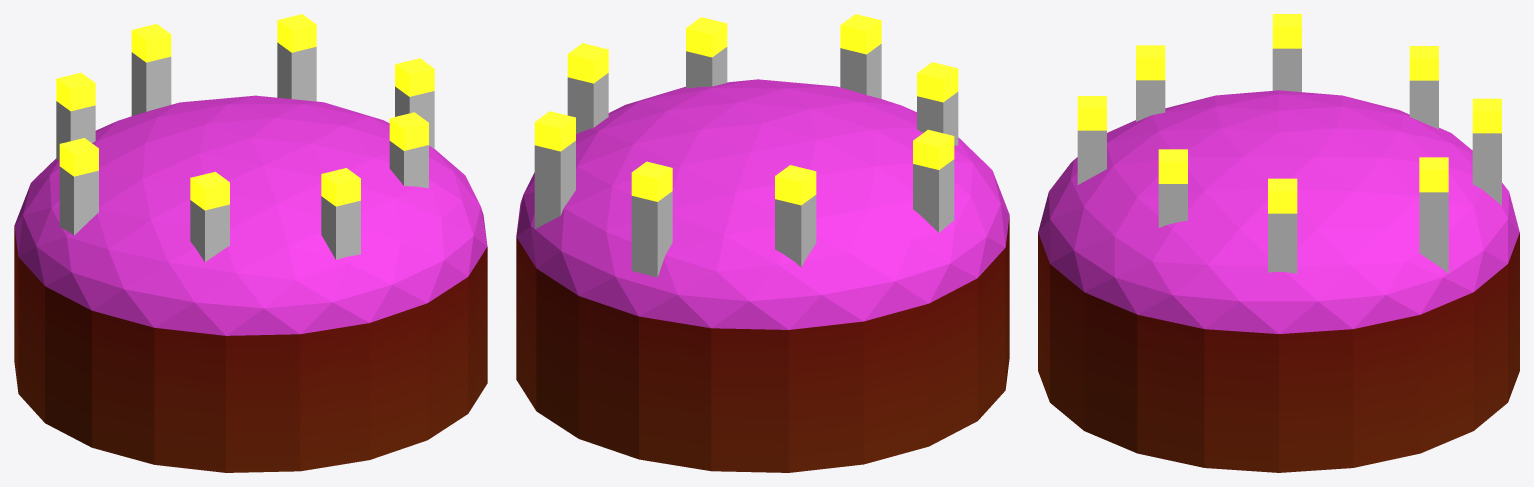
Rendered from Cake.fbx.
3 views of the same model, side by side, from view 1: azimuth 30°, elevation 25°; view 2: azimuth 150°, elevation 25°; view 3: azimuth 270°, elevation 25° (orthographic). The views are drawn at different scales.
Visible parts, largest first — view 1: Icosphere, Cube.007, Cube.004, Cube.003, Cube.006, Cube.008, Cube.001, Cube.005, Cube.002; view 2: Icosphere, Cube.004, Cube.003, Cube.007, Cube.005, Cube.002, Cube.006, Cube.008, Cube.001; view 3: Icosphere, Cube.003, Cube.004, Cube.002, Cube.006, Cube.007, Cube.005, Cube.001, Cube.008.
Part boxes in pixels (<box>): Icosphere: <box>14,95,487,472</box>; Cube.007: <box>59,138,98,235</box>; Cube.004: <box>131,24,171,115</box>; Cube.003: <box>277,14,316,101</box>; Cube.006: <box>321,168,360,259</box>; Cube.008: <box>190,171,229,261</box>; Cube.001: <box>389,112,428,188</box>; Cube.005: <box>56,72,95,160</box>; Cube.002: <box>395,58,434,148</box>; Icosphere: <box>516,79,1009,472</box>; Cube.004: <box>631,161,672,277</box>; Cube.003: <box>534,111,575,229</box>; Cube.007: <box>913,129,954,232</box>; Cube.005: <box>775,165,816,267</box>; Cube.002: <box>567,43,608,133</box>; Cube.006: <box>840,14,881,98</box>; Cube.008: <box>917,62,958,145</box>; Cube.001: <box>686,17,727,88</box>; Icosphere: <box>1038,90,1519,472</box>; Cube.003: <box>1419,157,1448,273</box>; Cube.004: <box>1472,98,1501,205</box>; Cube.002: <box>1268,178,1297,273</box>; Cube.006: <box>1077,96,1106,184</box>; Cube.007: <box>1272,14,1301,91</box>; Cube.005: <box>1409,46,1438,129</box>; Cube.001: <box>1158,149,1187,227</box>; Cube.008: <box>1136,45,1165,121</box>.
Bounding box in the file's own units: 200 × 123 × 200.
